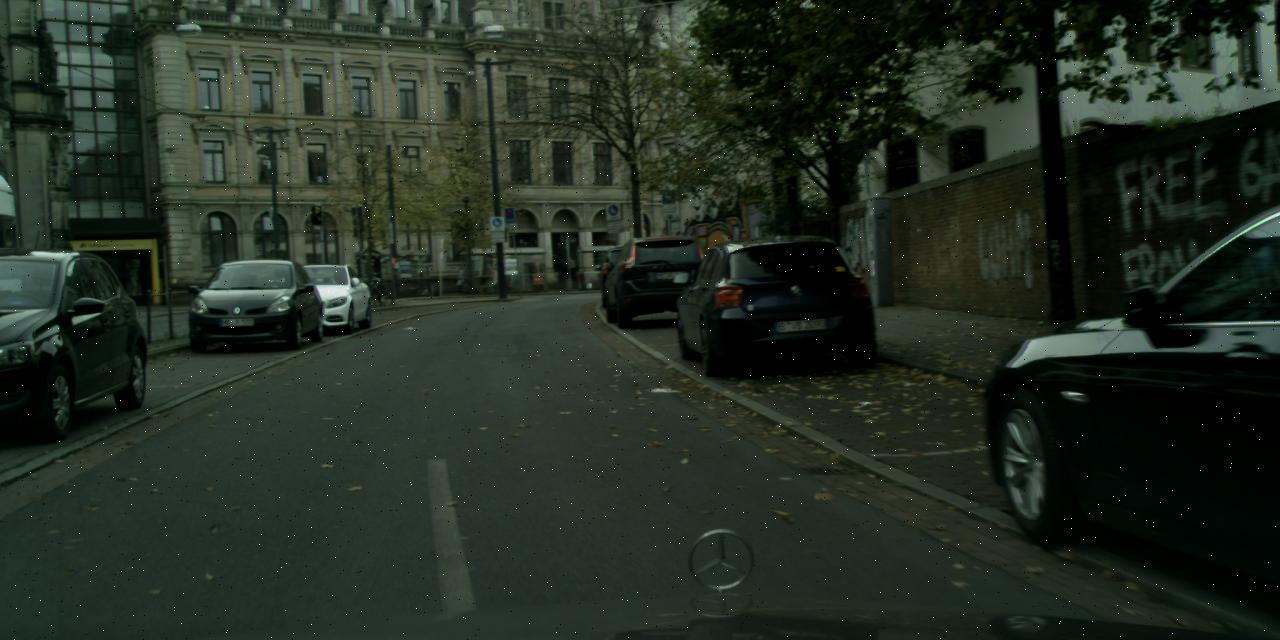ped: (455, 268, 466, 295)
